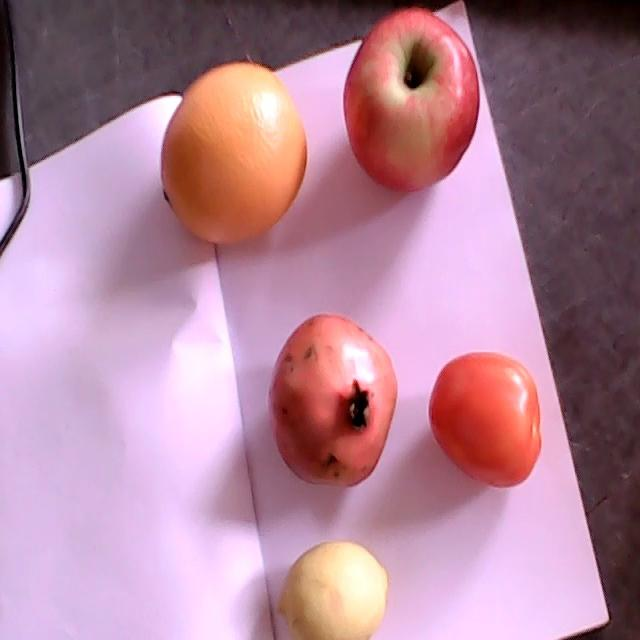apple: (344, 9, 479, 192)
lemon: (275, 543, 388, 639)
orange: (163, 62, 307, 245)
pomegranate: (267, 314, 397, 486)
tomato: (428, 352, 541, 485)
